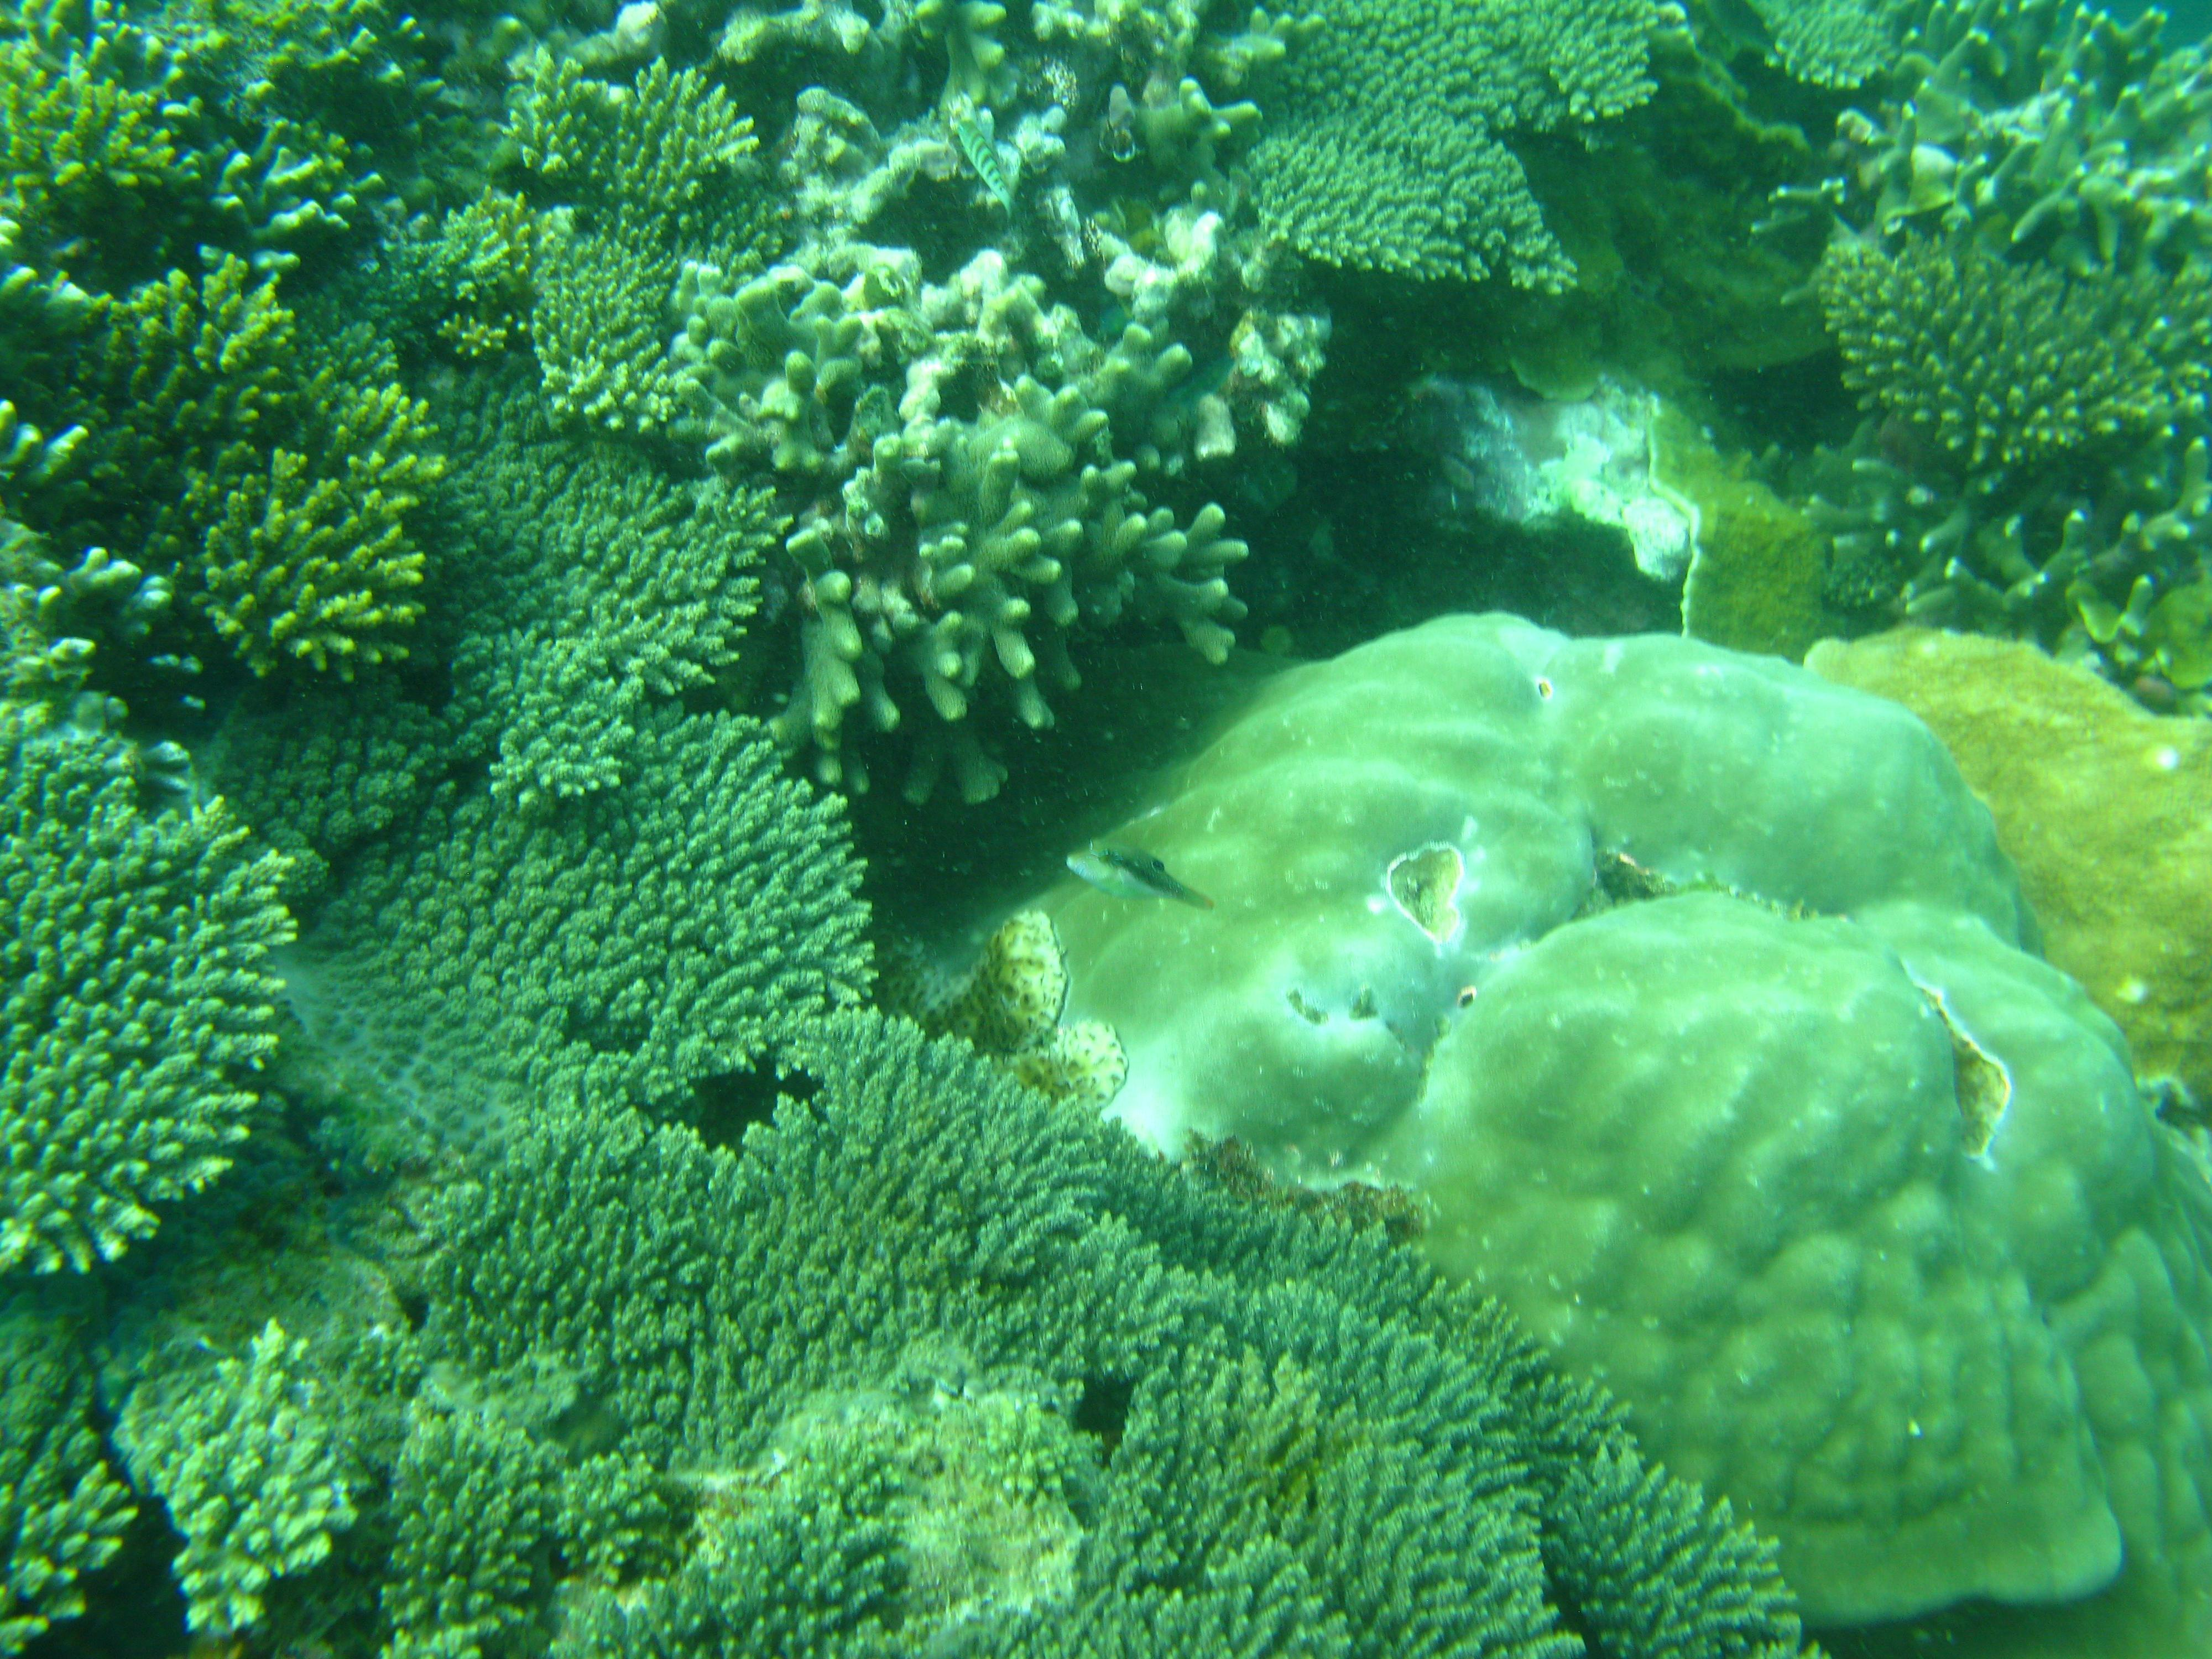Fish: (1035, 802, 1233, 962)
